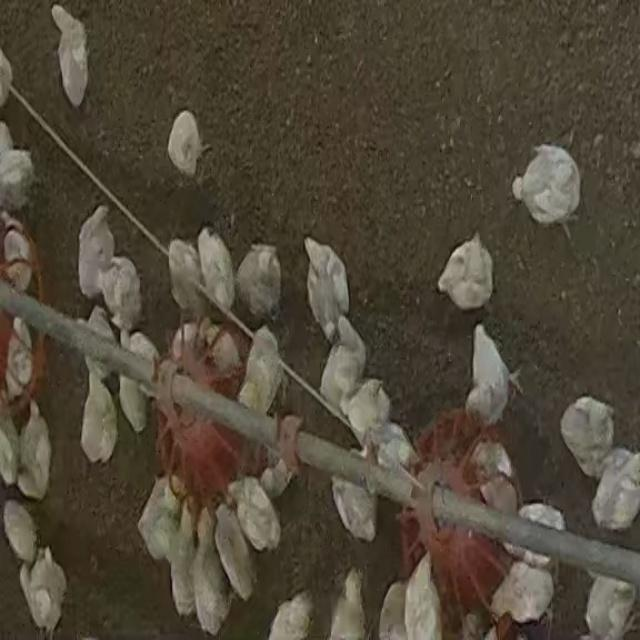chicken: (188, 508, 232, 634), (511, 144, 582, 222), (300, 234, 351, 340), (319, 317, 369, 424), (466, 321, 516, 426), (237, 324, 285, 418), (21, 544, 69, 638), (559, 395, 614, 477), (489, 560, 553, 629), (212, 500, 254, 602), (53, 8, 95, 106), (591, 449, 640, 533), (163, 495, 195, 622), (123, 330, 160, 438), (137, 475, 181, 565), (81, 362, 119, 466), (16, 400, 54, 500), (435, 238, 490, 307), (77, 206, 116, 303), (232, 476, 281, 553), (196, 227, 237, 318), (234, 243, 281, 321), (97, 253, 144, 330), (402, 554, 444, 640), (580, 572, 634, 638), (342, 376, 390, 450), (367, 421, 419, 488), (513, 502, 565, 569), (330, 474, 378, 543), (166, 238, 206, 320), (327, 567, 367, 640), (3, 316, 34, 402), (2, 498, 40, 568), (200, 321, 245, 379), (166, 108, 202, 180), (1, 217, 34, 295), (468, 438, 515, 490), (264, 591, 314, 639), (84, 306, 118, 374), (1, 142, 36, 208), (375, 580, 407, 639)
